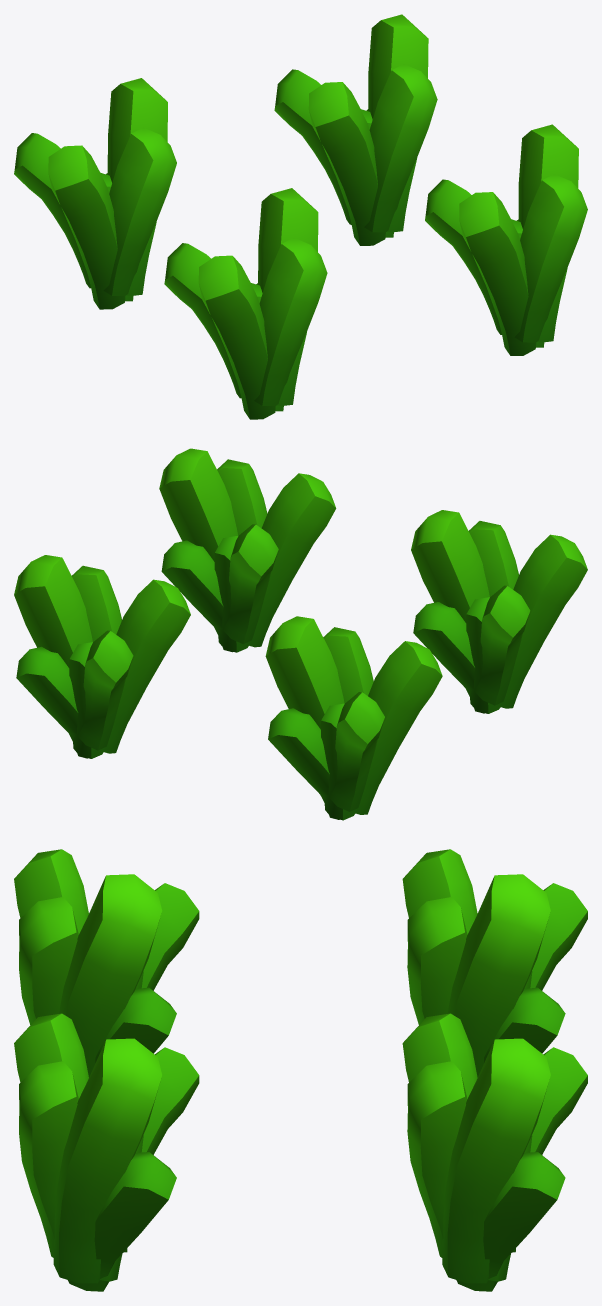
File: Farm_Crop_Carrot_Step_01.glb
3 views of the same model, one above another, from view 1: azimuth 30°, elevation 25°; view 2: azimuth 150°, elevation 25°; view 3: azimuth 270°, elevation 25° (orthographic). The views are drawn at different scales.
Parts seen in each view (by area): view 1: Farm_Crop_Carrot_Step_01; view 2: Farm_Crop_Carrot_Step_01; view 3: Farm_Crop_Carrot_Step_01.
Boxes of the visible parts, <box> form: Farm_Crop_Carrot_Step_01: <box>14,14,587,419</box>; Farm_Crop_Carrot_Step_01: <box>14,448,587,820</box>; Farm_Crop_Carrot_Step_01: <box>14,849,587,1291</box>.
Bounding box in the file's own units: 1.54 × 0.7438 × 1.48.
Materials: 1 (1 with a texture image).
